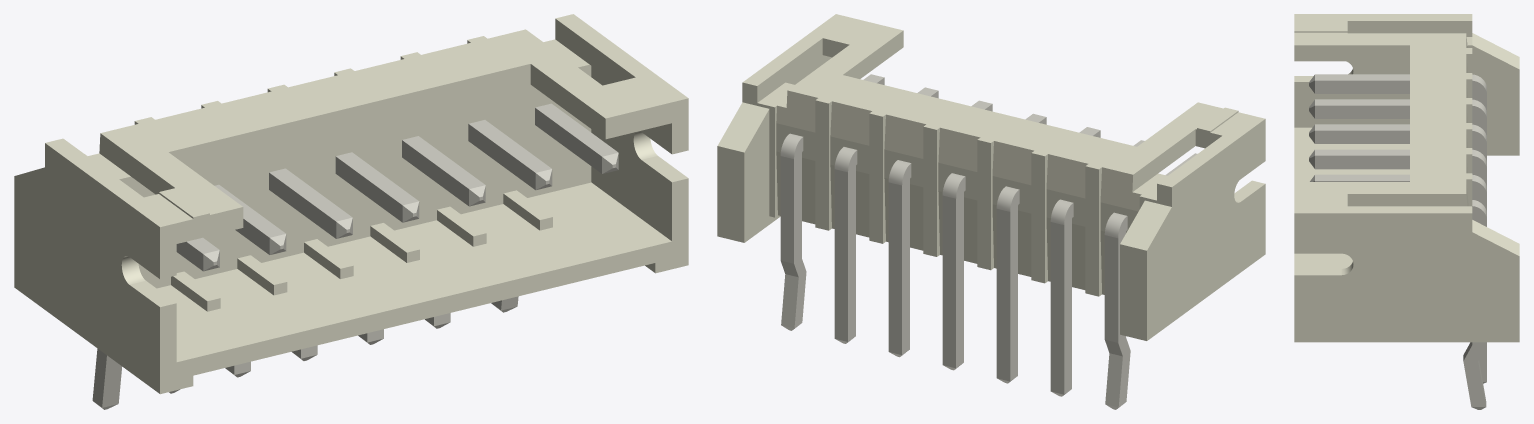
The model's file is kc-jst_ph_s7b-ph-k_1x07_p2.00mm_horizontal.glb.
3 views of the same model, side by side, from view 1: azimuth 30°, elevation 25°; view 2: azimuth 150°, elevation 25°; view 3: azimuth 270°, elevation 25° (orthographic). The views are drawn at different scales.
Visible parts, largest first — view 1: 0.75_0.75_0.5833333333333334_0, 0.6666666666666666_0.6666666666666666_0.5833333333333334_0.8; view 2: 0.75_0.75_0.5833333333333334_0, 0.6666666666666666_0.6666666666666666_0.5833333333333334_0.8; view 3: 0.75_0.75_0.5833333333333334_0, 0.6666666666666666_0.6666666666666666_0.5833333333333334_0.8.
Boxes of the visible parts, x1=… form: 0.75_0.75_0.5833333333333334_0: x1=14, y1=14, x2=688, y2=394; 0.6666666666666666_0.6666666666666666_0.5833333333333334_0.8: x1=92, y1=103, x2=618, y2=409; 0.75_0.75_0.5833333333333334_0: x1=717, y1=14, x2=1265, y2=340; 0.6666666666666666_0.6666666666666666_0.5833333333333334_0.8: x1=780, y1=74, x2=1196, y2=409; 0.75_0.75_0.5833333333333334_0: x1=1294, y1=14, x2=1519, y2=342; 0.6666666666666666_0.6666666666666666_0.5833333333333334_0.8: x1=1309, y1=74, x2=1486, y2=409.
Size of the model in its own units: 1.59 by 0.825 by 0.7599.
